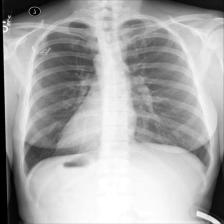normal: (24, 17, 213, 172)
